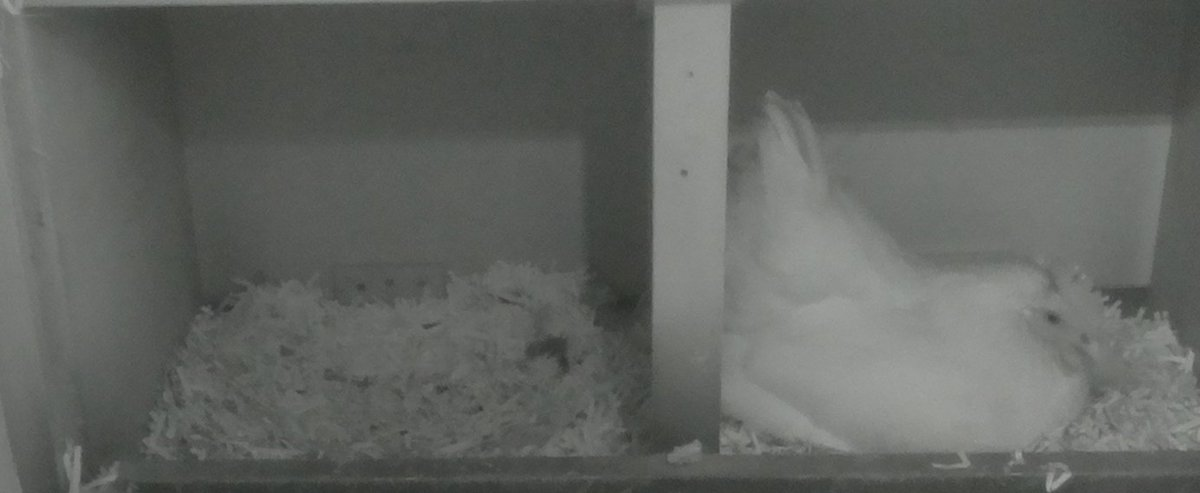hen: (734, 96, 1110, 443)
